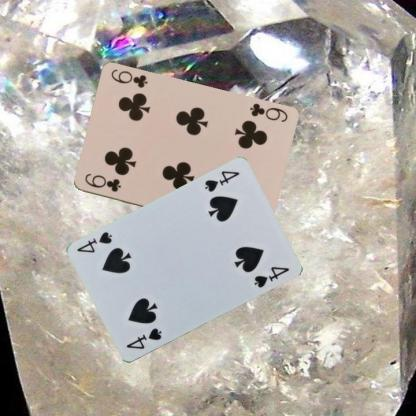4s: (124, 325, 163, 351), (202, 168, 241, 194)
6c: (247, 100, 288, 124), (81, 171, 122, 194)
